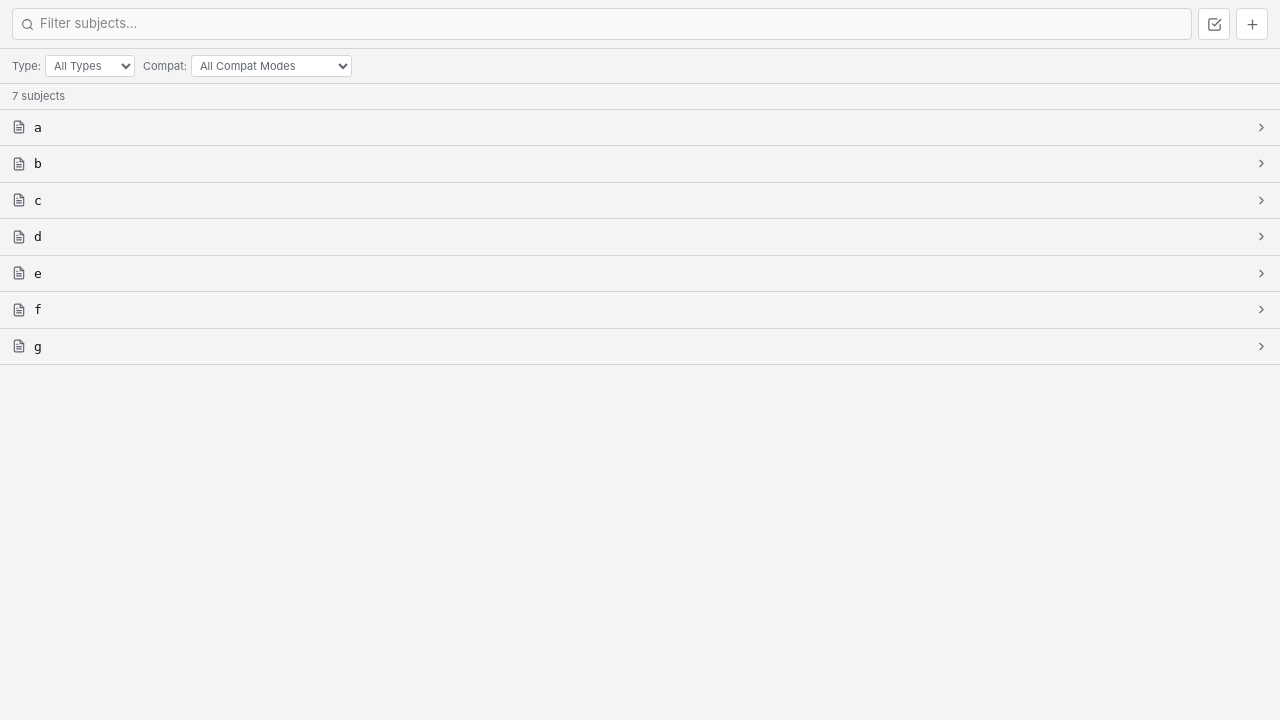
Test: [@schema-list-coverage] bulk delete — confirmation modal › modal shows "and X more" when more than 5 subjects selected
This screenshot has width=1280, height=720.
Click the button named "enter bulk selection mode" at x=1214, y=24, box [1198, 8, 1230, 40]
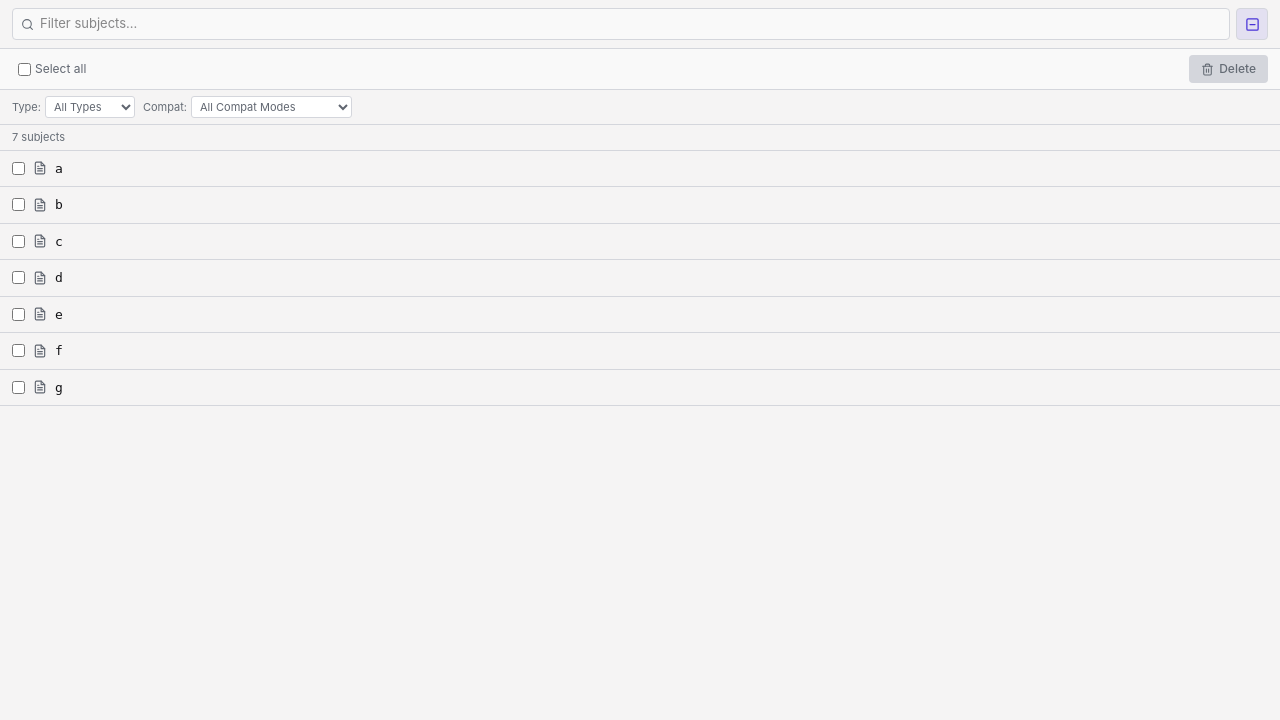
# Select all
Click the button with aria-label "select all subjects" at x=52, y=69, box [12, 57, 92, 81]
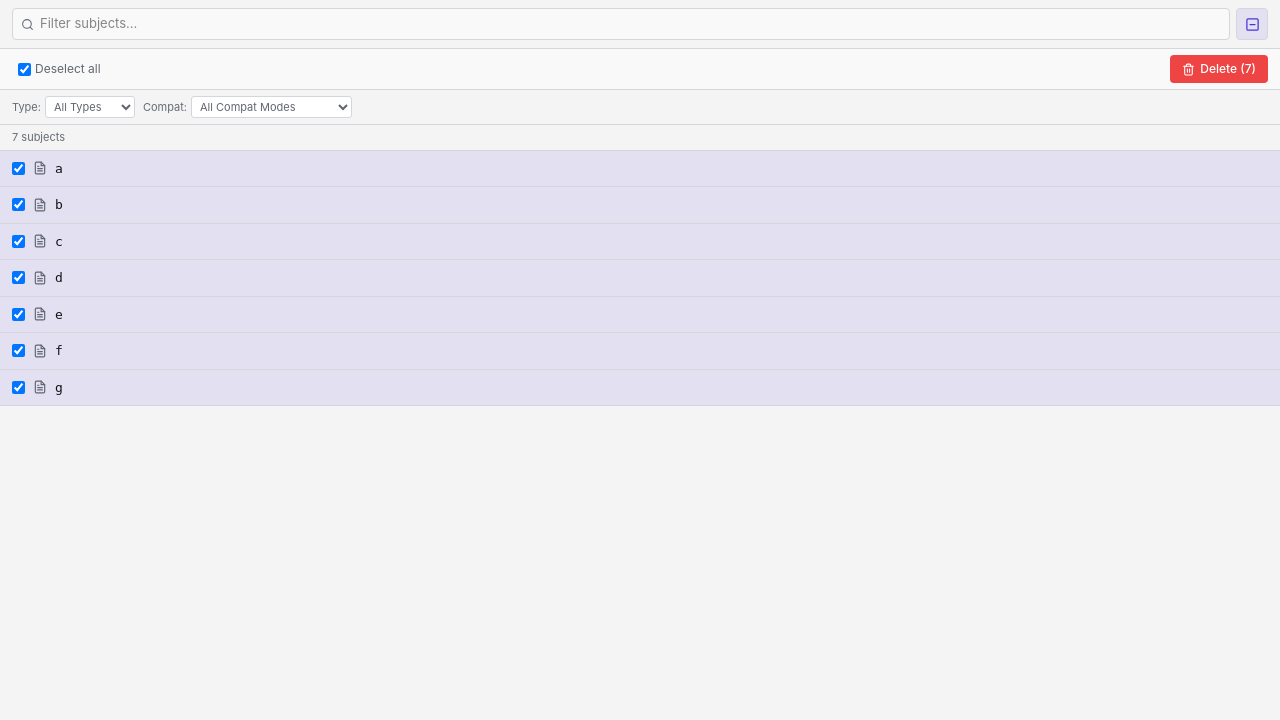
# Open modal
Click the button with aria-label "delete 7 selected" at x=1219, y=69, box [1170, 55, 1268, 83]
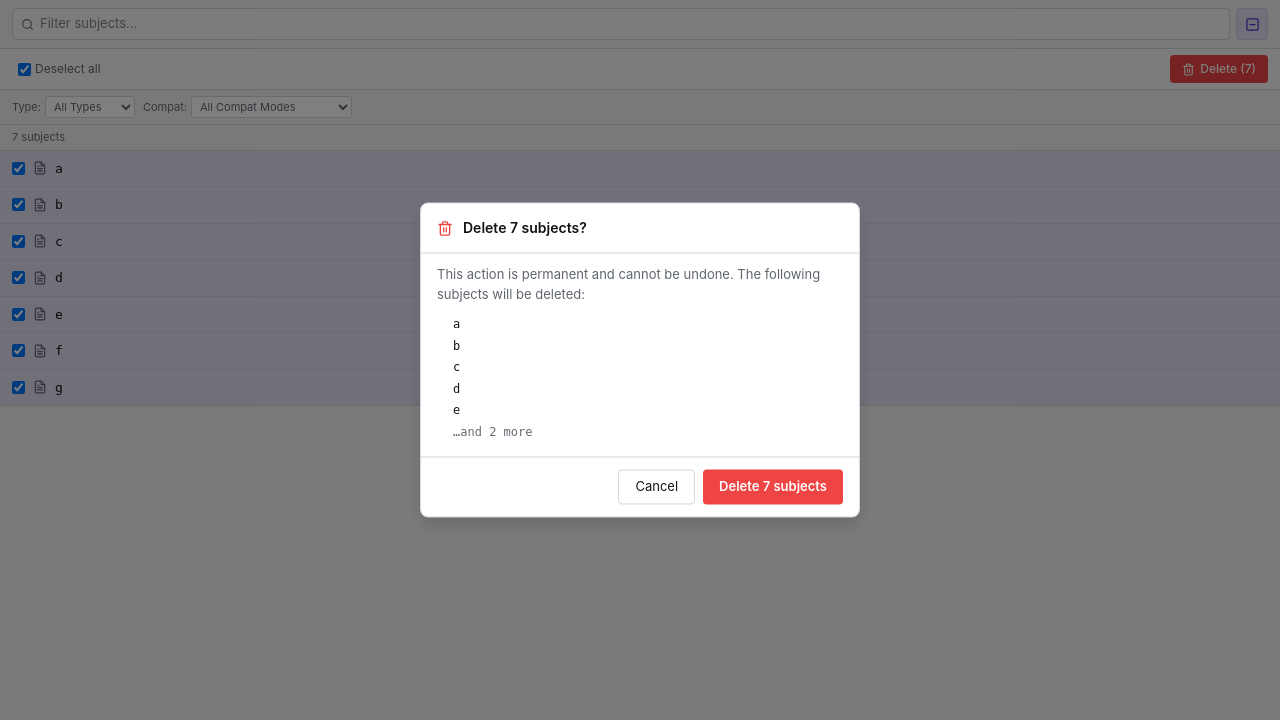
Result: the list item "…and 2 more" is shown at [453, 425, 532, 439]
